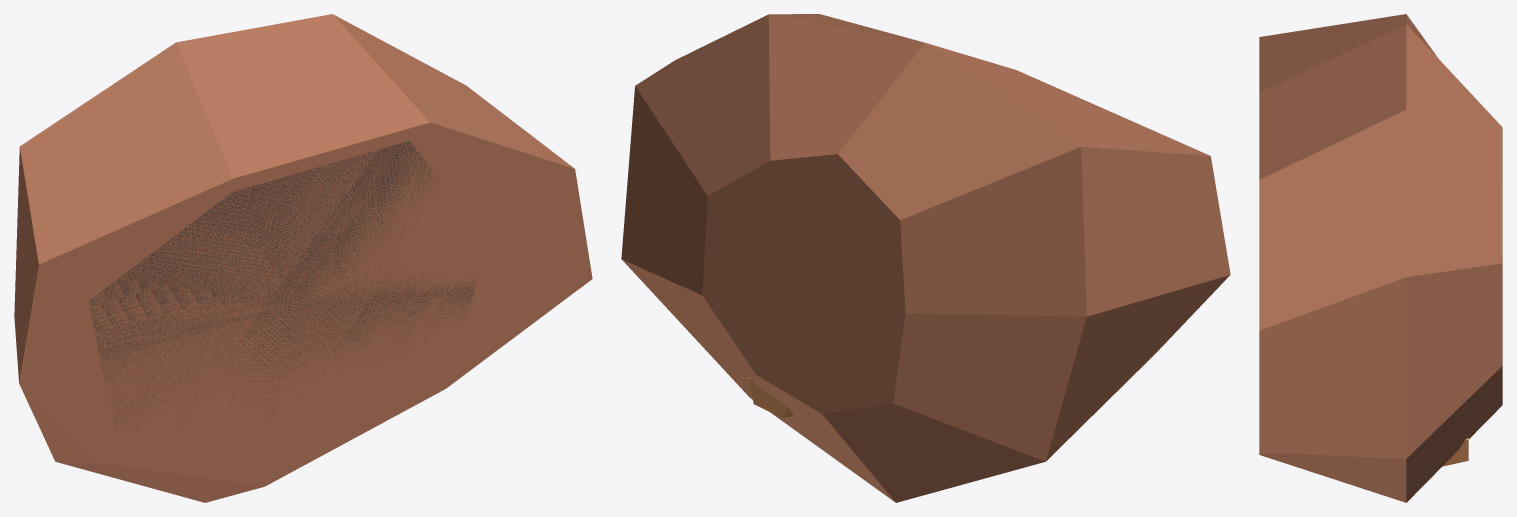
Rendered from CrashBasinRockC.fbx.
The picture shows the model from 3 angles, left to right: view 1: azimuth 30°, elevation 25°; view 2: azimuth 150°, elevation 25°; view 3: azimuth 270°, elevation 25°; orthographic projection.
Parts seen in each view (by area): view 1: RockBody, RockFoot; view 2: RockBody, RockAccent; view 3: RockBody, RockAccent.
Part boxes in pixels (x1,y1,x2,y2): RockBody: (14,14,592,502); RockFoot: (89,141,475,429); RockBody: (621,14,1230,502); RockAccent: (748,377,793,418); RockBody: (1259,14,1502,502); RockAccent: (1442,438,1468,466).
Bounding box in the file's own units: 232 × 180 × 86.
